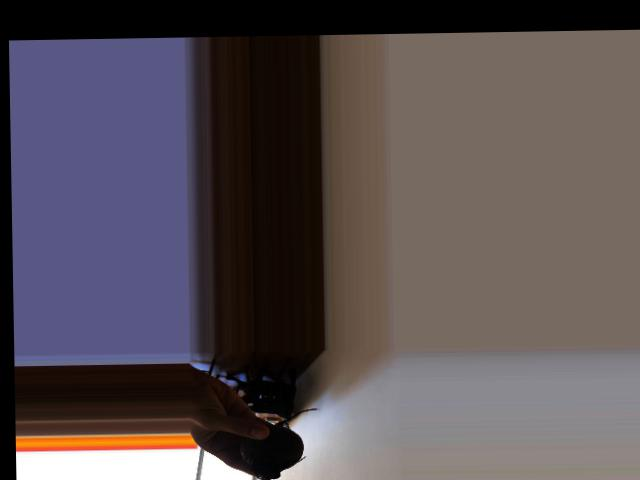beet: (240, 408, 322, 480)
